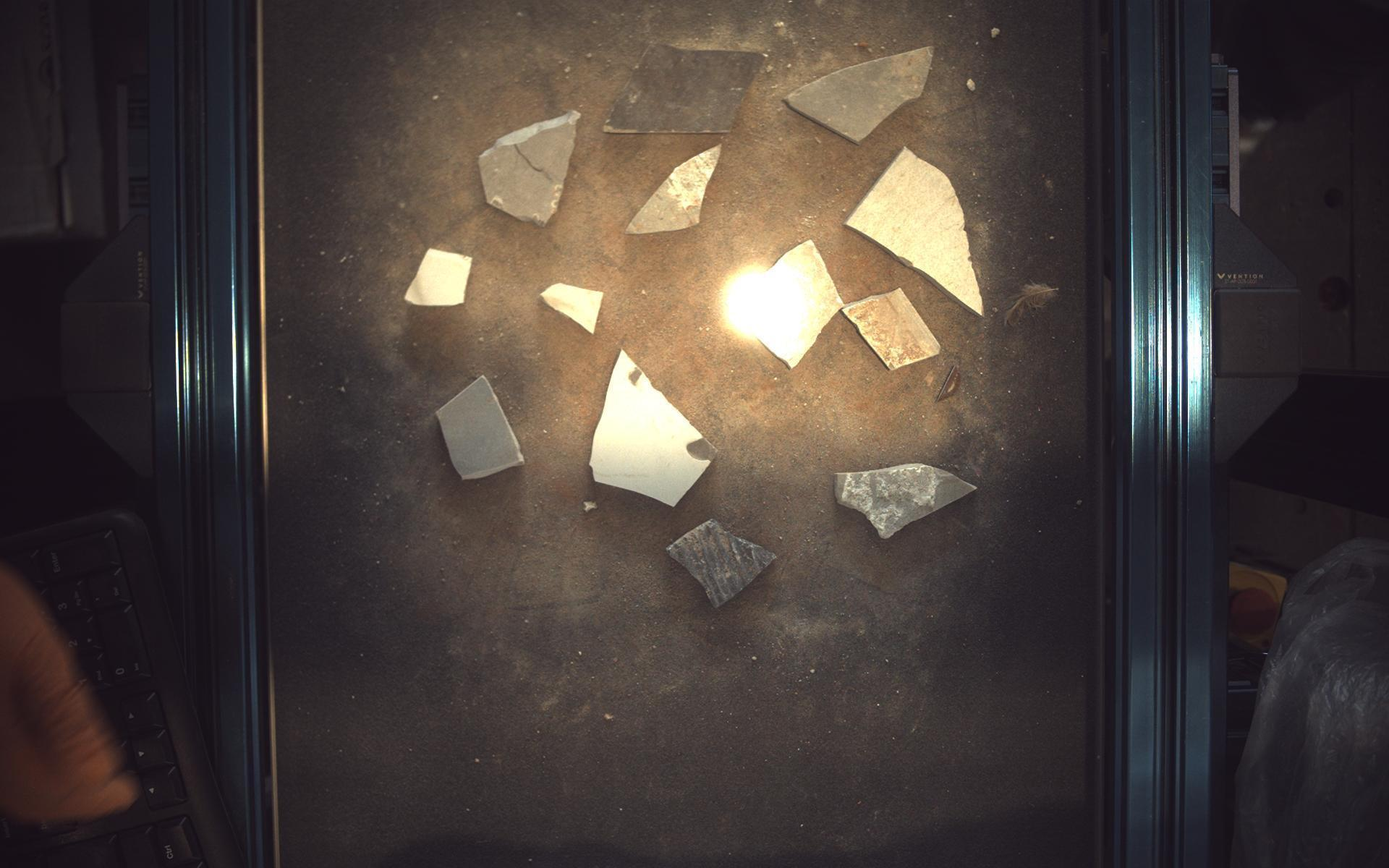tile: (846, 146, 985, 315), (590, 350, 718, 506), (729, 239, 845, 368), (603, 42, 765, 132), (786, 45, 935, 142), (479, 109, 581, 226), (836, 464, 977, 539), (668, 519, 778, 608), (436, 376, 524, 480), (626, 143, 721, 233), (844, 288, 943, 370), (404, 247, 472, 305), (541, 282, 604, 333)
